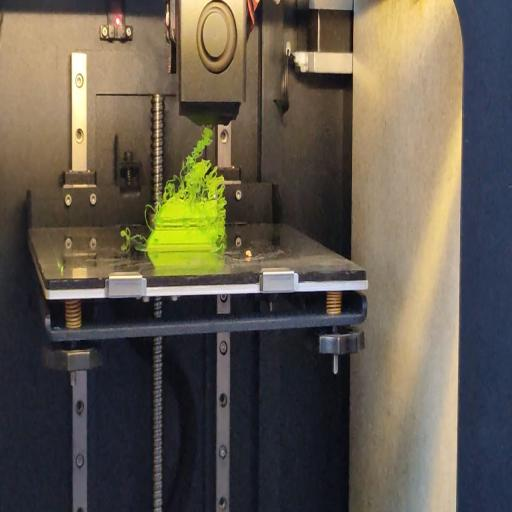spaghetti: (162, 126, 228, 202), (122, 226, 148, 240), (142, 202, 154, 232), (216, 238, 228, 251)
